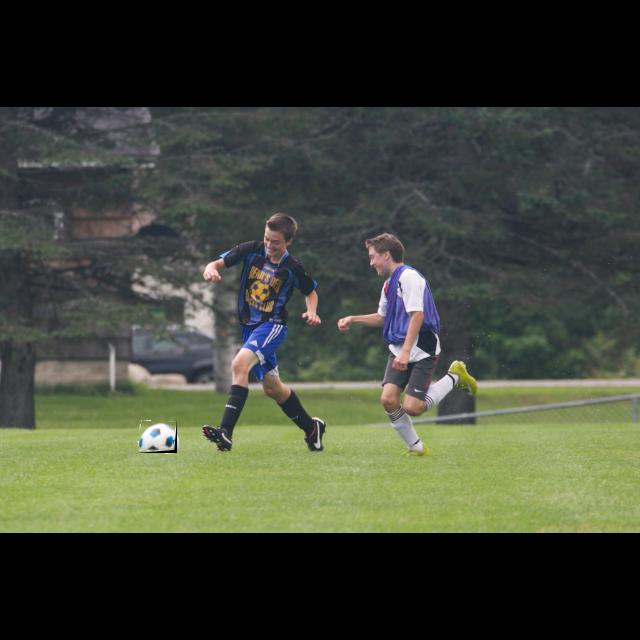Football: (139, 421, 177, 453)
